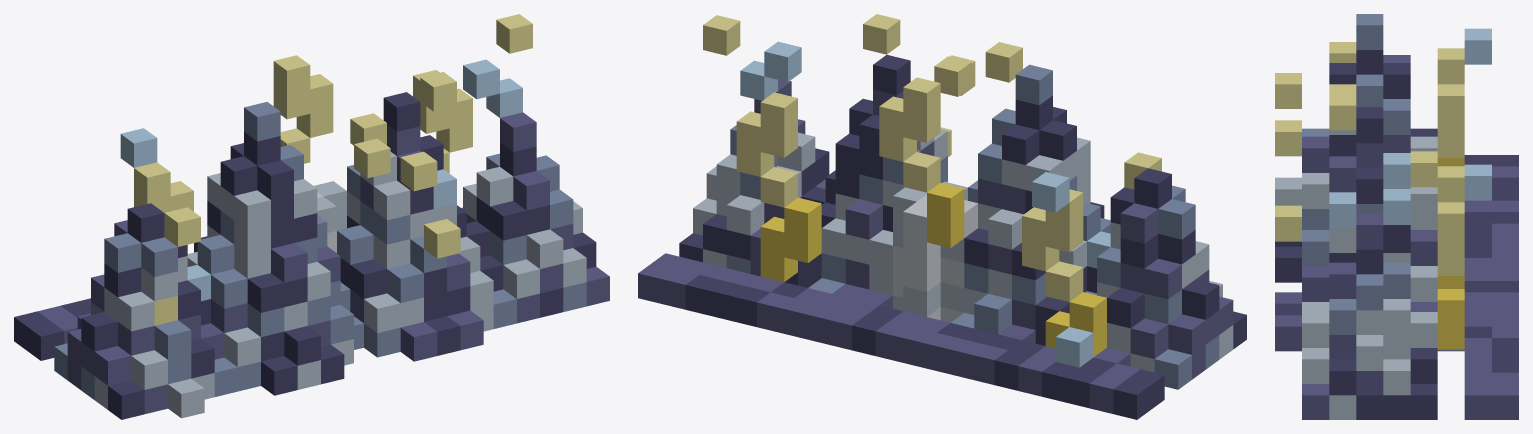
Rendered from spawn_cover_24.fbx.
3 renders of one model, left to right at view 1: azimuth 30°, elevation 25°; view 2: azimuth 150°, elevation 25°; view 3: azimuth 270°, elevation 25°, orthographic. The views are drawn at different scales.
Visible parts, largest first — view 1: spawn_cover_24_LeftLobe, spawn_cover_24_RightLobe, spawn_cover_24_Core; view 2: spawn_cover_24_LeftLobe, spawn_cover_24_RightLobe, spawn_cover_24_Core; view 3: spawn_cover_24_RightLobe, spawn_cover_24_LeftLobe, spawn_cover_24_Core.
Boxes of the visible parts, x1,y1,x2,y2 form: spawn_cover_24_LeftLobe: (54, 85, 390, 419); spawn_cover_24_RightLobe: (273, 14, 609, 361); spawn_cover_24_Core: (14, 207, 462, 360); spawn_cover_24_LeftLobe: (903, 42, 1246, 389); spawn_cover_24_RightLobe: (679, 14, 975, 316); spawn_cover_24_Core: (638, 253, 1164, 419); spawn_cover_24_RightLobe: (1275, 48, 1464, 419); spawn_cover_24_LeftLobe: (1275, 14, 1491, 282); spawn_cover_24_Core: (1464, 155, 1518, 419).
Bounding box in the file's own units: 1050 × 500 × 450.
